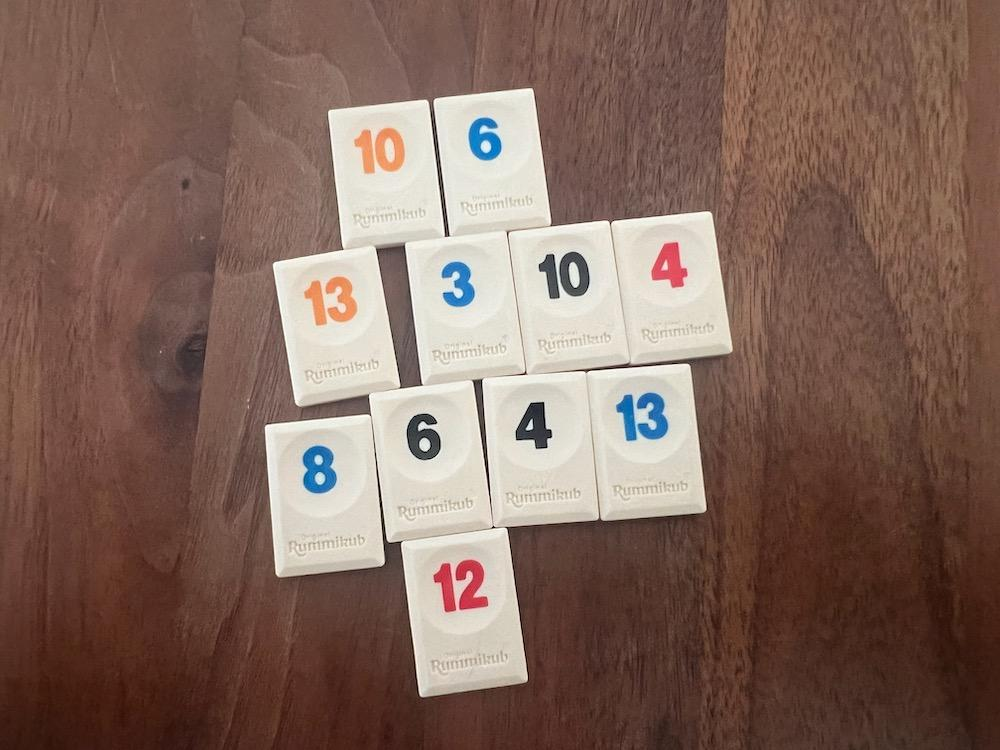black_10: (508, 221, 628, 373)
black_4: (482, 374, 600, 527)
black_6: (369, 381, 491, 541)
blue_13: (588, 363, 707, 520)
blue_3: (406, 232, 525, 384)
blue_6: (435, 88, 551, 236)
blue_8: (266, 414, 383, 576)
orange_10: (328, 100, 444, 248)
orange_13: (273, 248, 398, 406)
red_12: (402, 529, 526, 697)
red_4: (611, 211, 732, 365)
